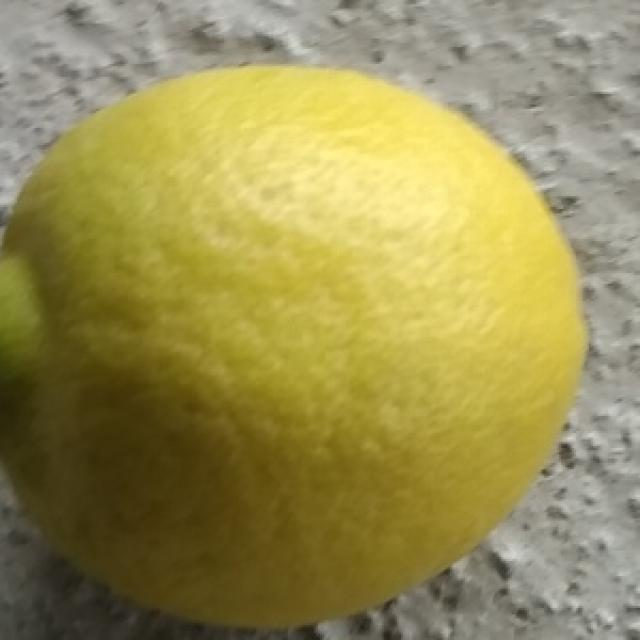Ripe: (0, 59, 595, 640)
